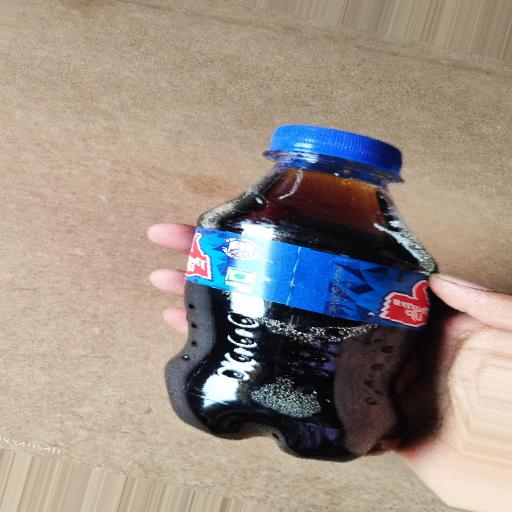Thumps Up: (137, 107, 438, 463)
